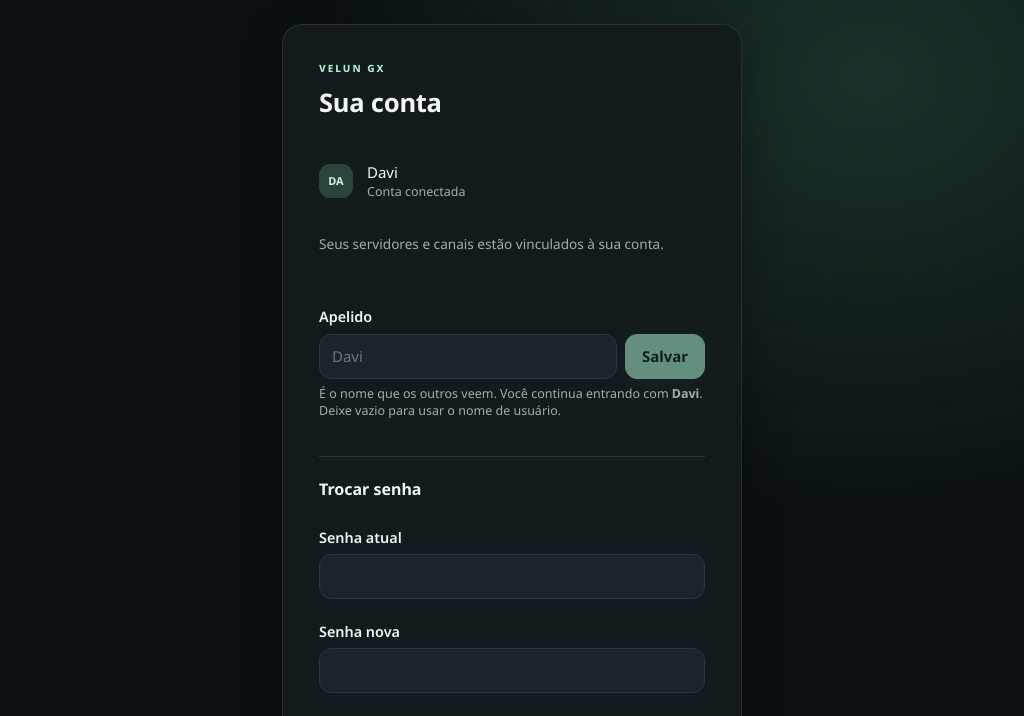
it: Conta › troca a própria senha na página da conta
The width and height of the screenshot is (1024, 716).
Type "senha-antiga-123" into the password field labelled "Senha atual".
click(512, 576); type("senha-antiga-123")  # box [319,554,705,599]
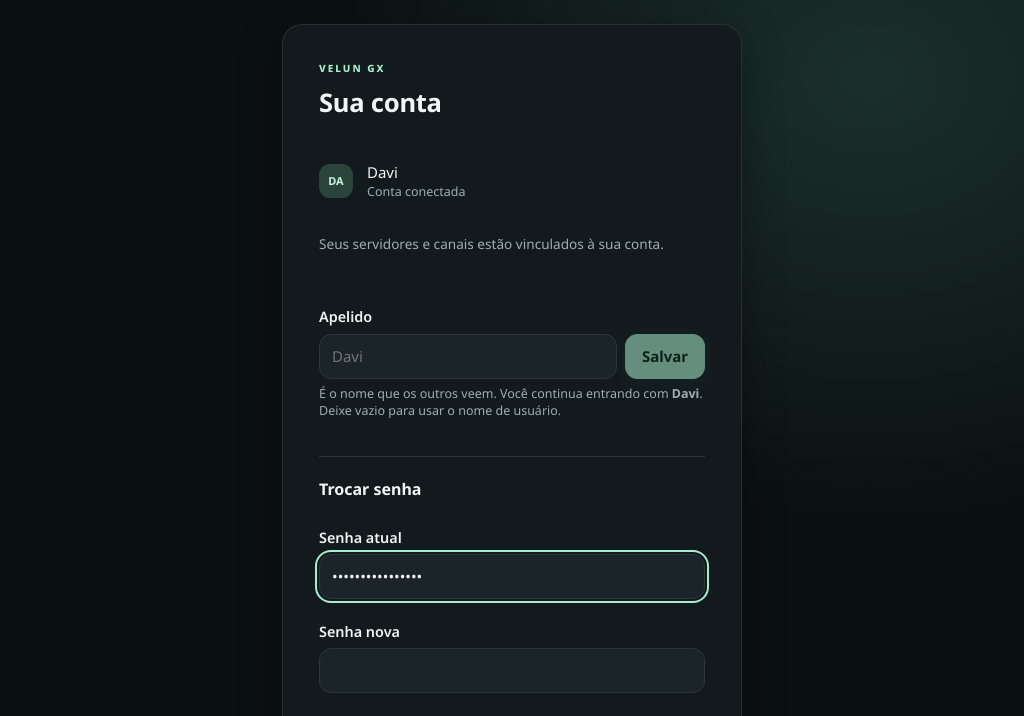
Type "senha-nova-segura" into the password field labelled "Senha nova".
click(512, 671); type("senha-nova-segura")  # box [319,648,705,693]
(page scrolled)
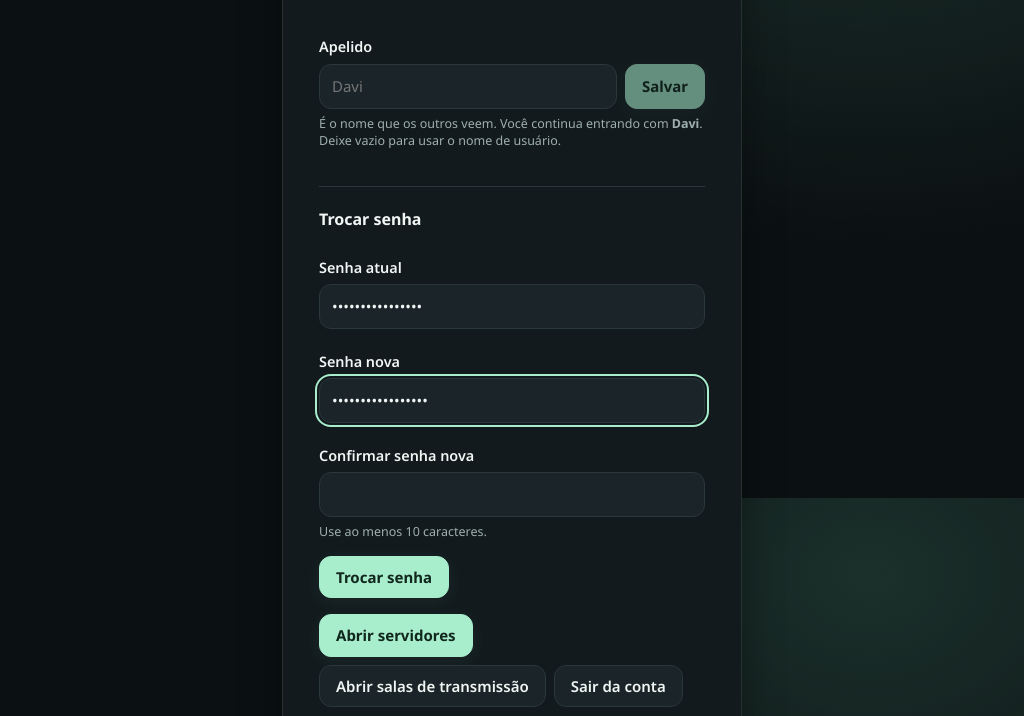
Type "senha-nova-segura" into the password field labelled "Confirmar senha nova".
click(512, 495); type("senha-nova-segura")  # box [319,472,705,517]
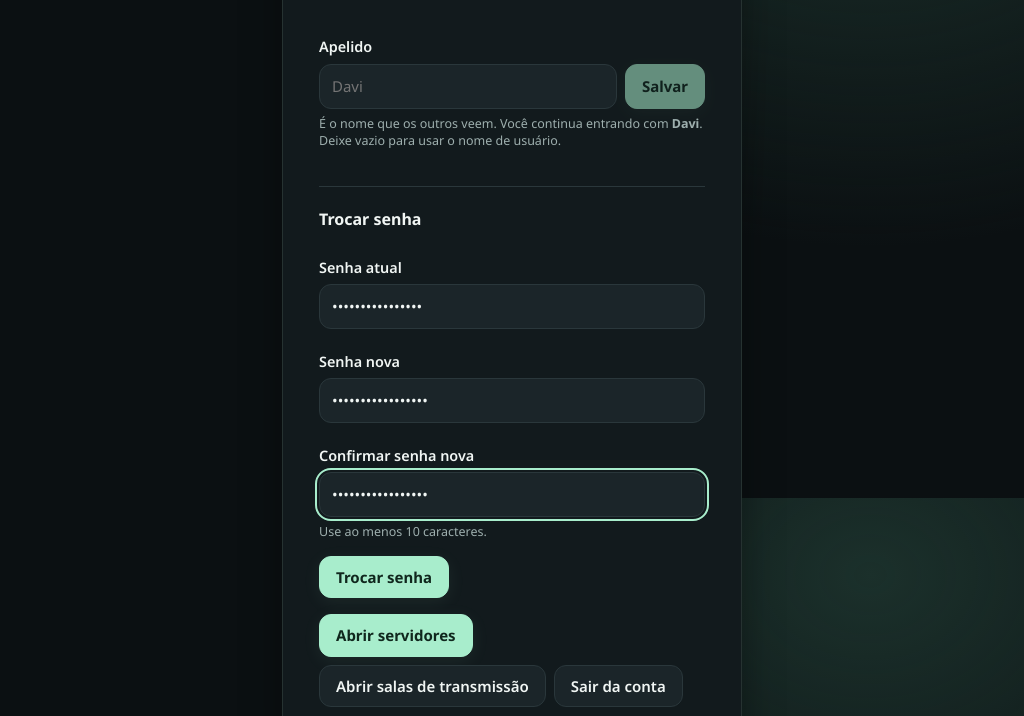
Click the button "Trocar senha".
click(384, 577)  # box [319,556,449,598]
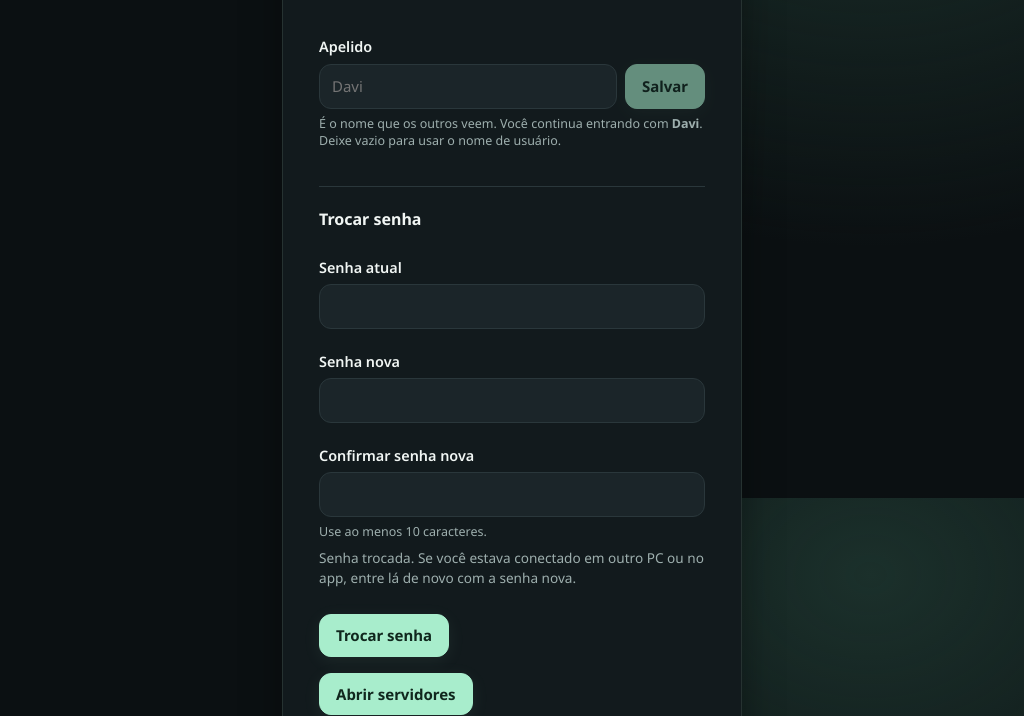
Now the text "Senha trocada" is shown, box [319,548,704,587]
